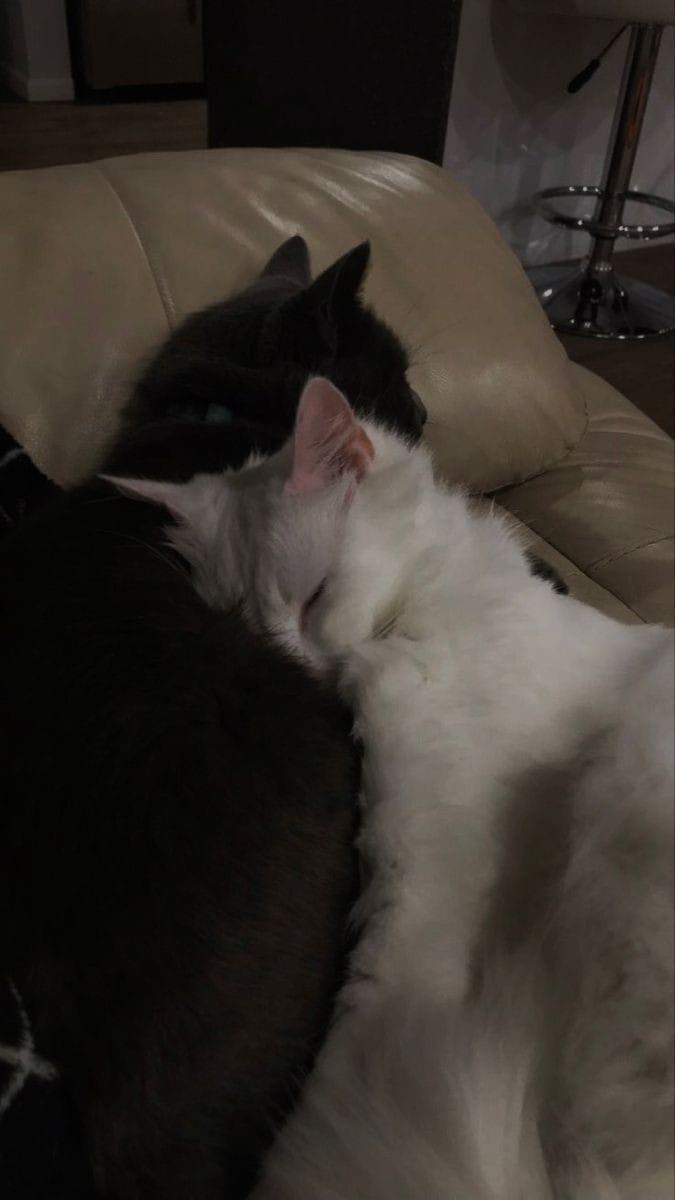kedo: (106, 378, 675, 1196), (0, 238, 436, 1182)
